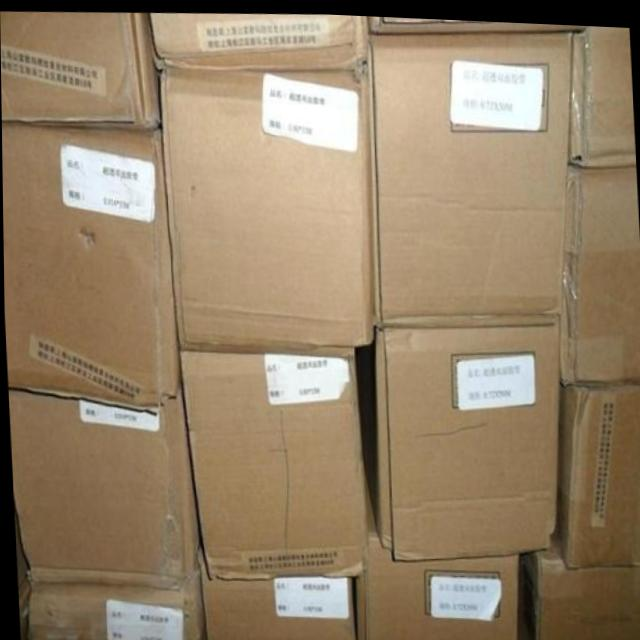box: (370, 26, 573, 324), (160, 64, 373, 347), (1, 124, 180, 407), (349, 319, 557, 555), (178, 346, 366, 576), (7, 379, 198, 579), (350, 446, 518, 640), (558, 153, 640, 378), (0, 12, 159, 124), (554, 377, 640, 565), (25, 554, 205, 640), (196, 549, 355, 640), (519, 528, 640, 640), (150, 14, 367, 63), (566, 21, 634, 160), (368, 13, 588, 27)
